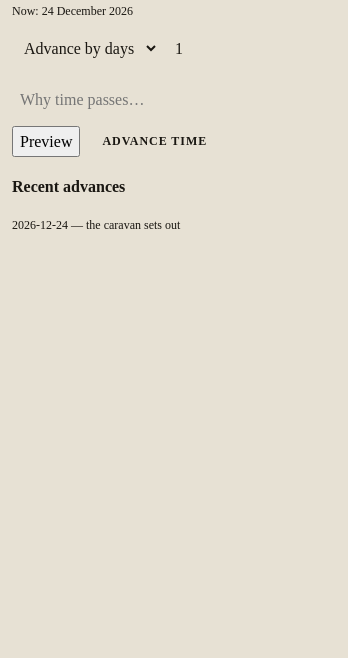
Test: a preview lists the scheduled events the skip would reach
The image size is (348, 658).
Click the button "Preview" at (46, 142), box x1=12 y1=126 x2=80 y2=157
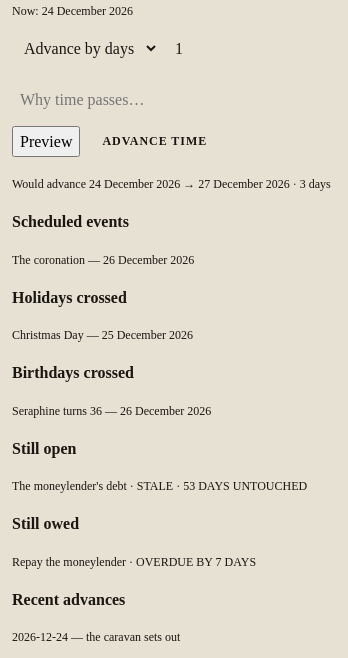
Check: the heading "Scheduled events" is shown, box x1=12 y1=213 x2=129 y2=230
Check: the text "The coronation — 26 December 2026" is shown, box x1=12 y1=252 x2=194 y2=266
